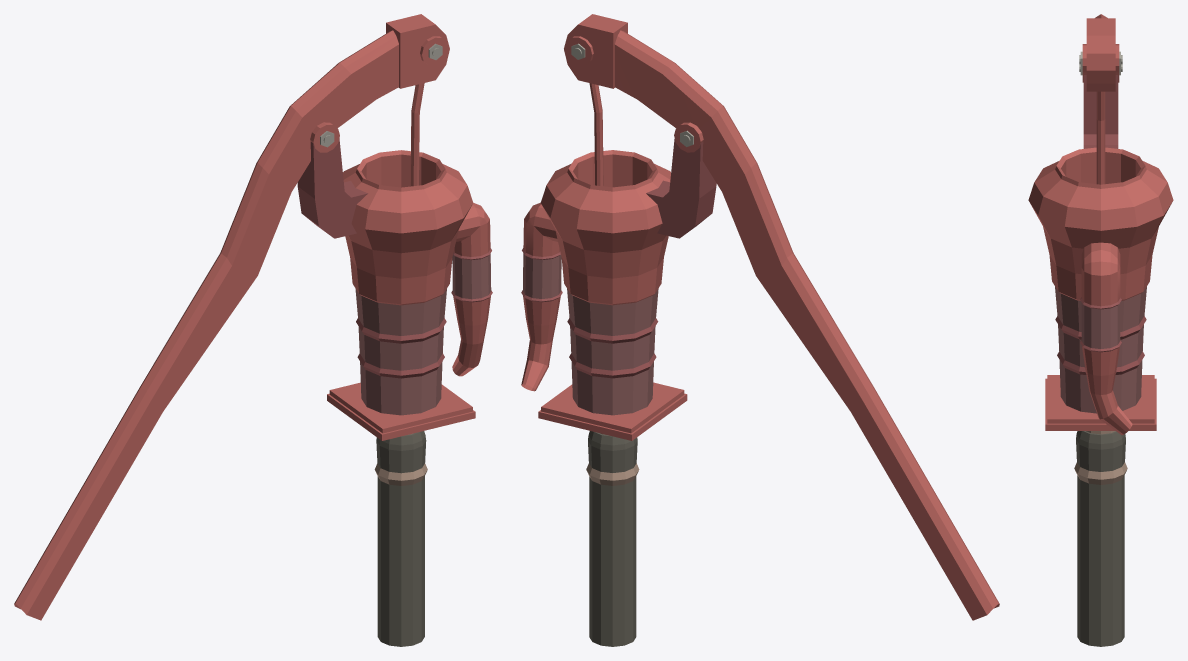
The model's file is Water_pump.fbx.
3 renders of one model, left to right at view 1: azimuth 30°, elevation 25°; view 2: azimuth 150°, elevation 25°; view 3: azimuth 270°, elevation 25°, orthographic.
Visible parts, largest first — view 1: Water_pump; view 2: Water_pump; view 3: Water_pump.
Boxes of the visible parts, bbox=[...] form: Water_pump: bbox=[14, 14, 492, 646]; Water_pump: bbox=[521, 14, 999, 646]; Water_pump: bbox=[1028, 14, 1173, 646].
Bounding box in the file's own units: 199 × 52.38 × 245.
